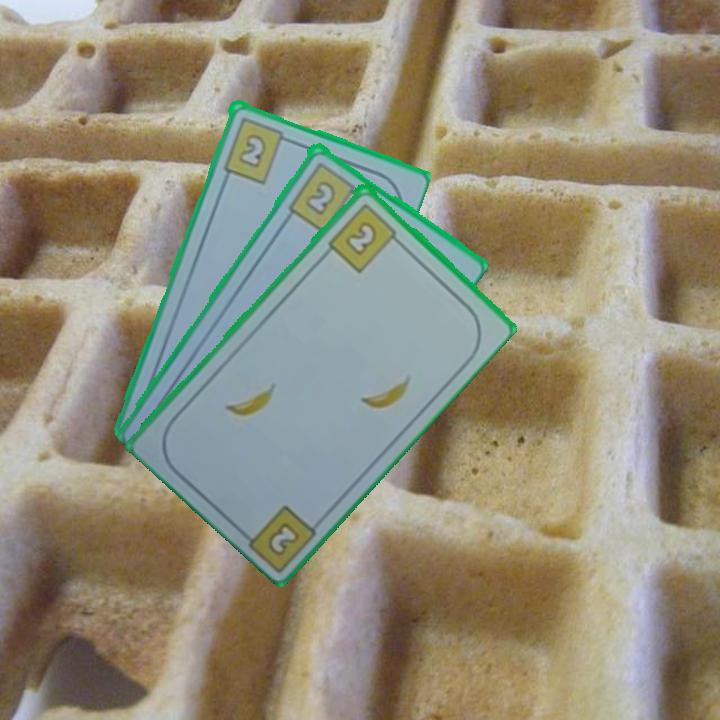2b: (284, 158, 365, 234), (324, 199, 405, 275), (219, 113, 295, 186), (263, 518, 303, 560)
